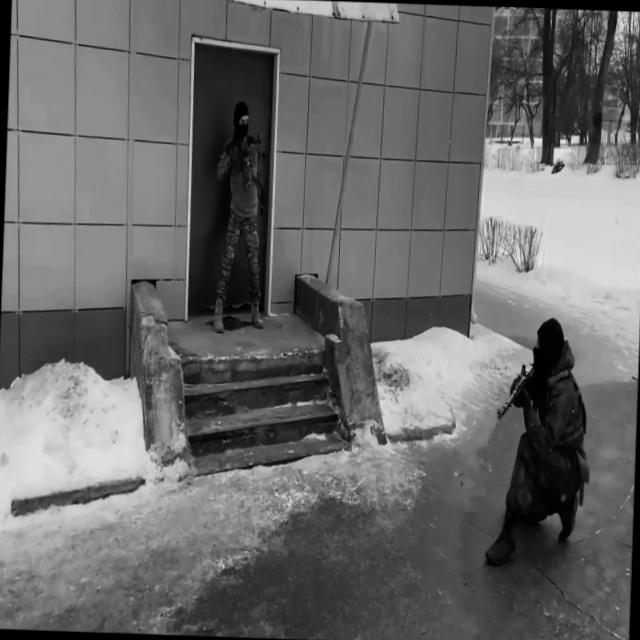gun: (496, 358, 537, 426), (224, 128, 263, 160)
person with a gun: (486, 313, 594, 568), (208, 98, 274, 334)
